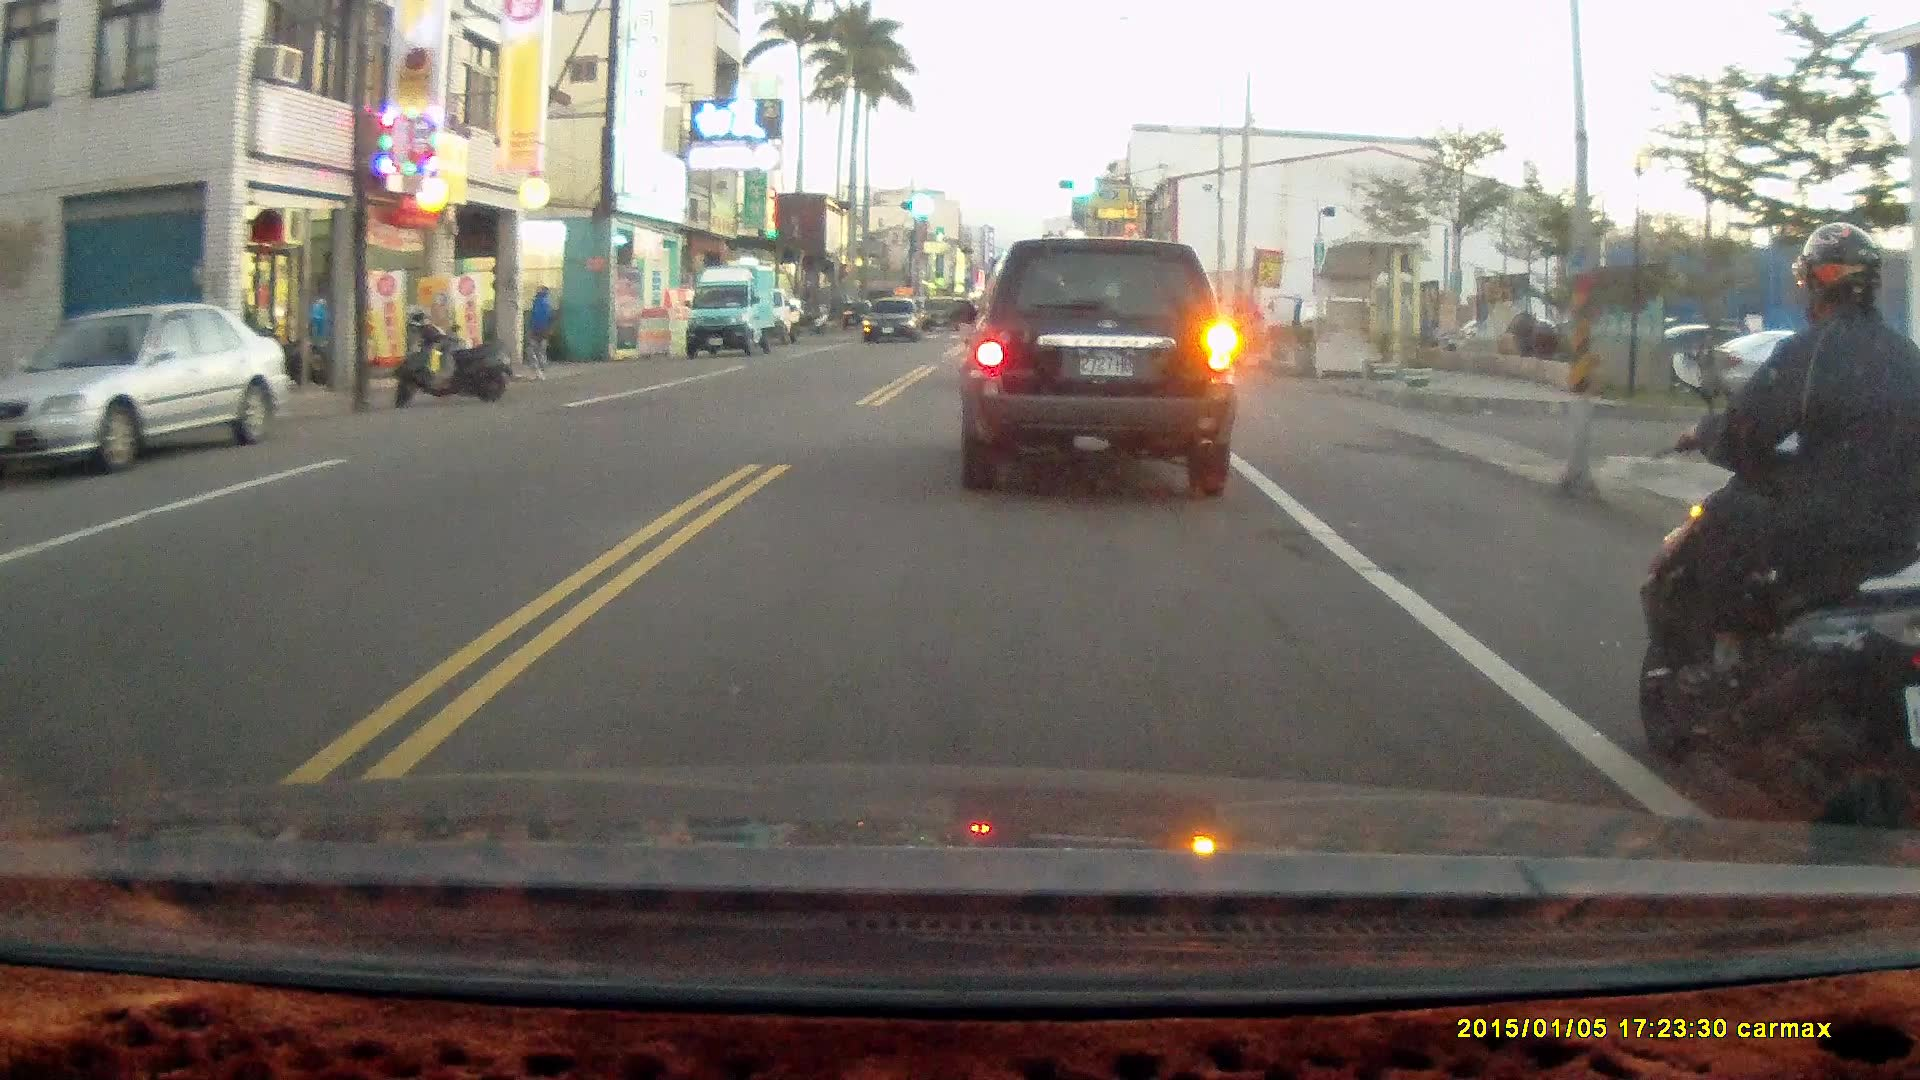pedestrian: (521, 283, 554, 381)
rider: (1634, 220, 1920, 864)
vehicle: (957, 235, 1238, 502), (1, 306, 290, 476), (685, 260, 782, 360), (859, 297, 925, 344)
